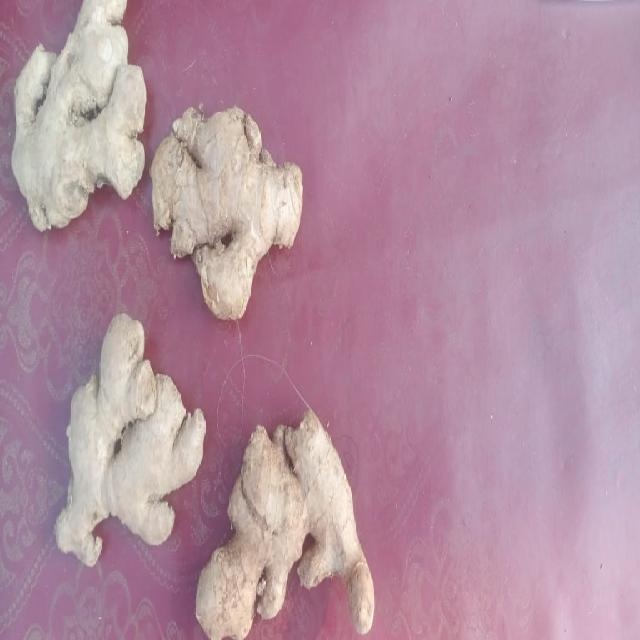ginger: (53, 324, 205, 556), (152, 106, 308, 324), (222, 431, 380, 629), (10, 13, 144, 205)
